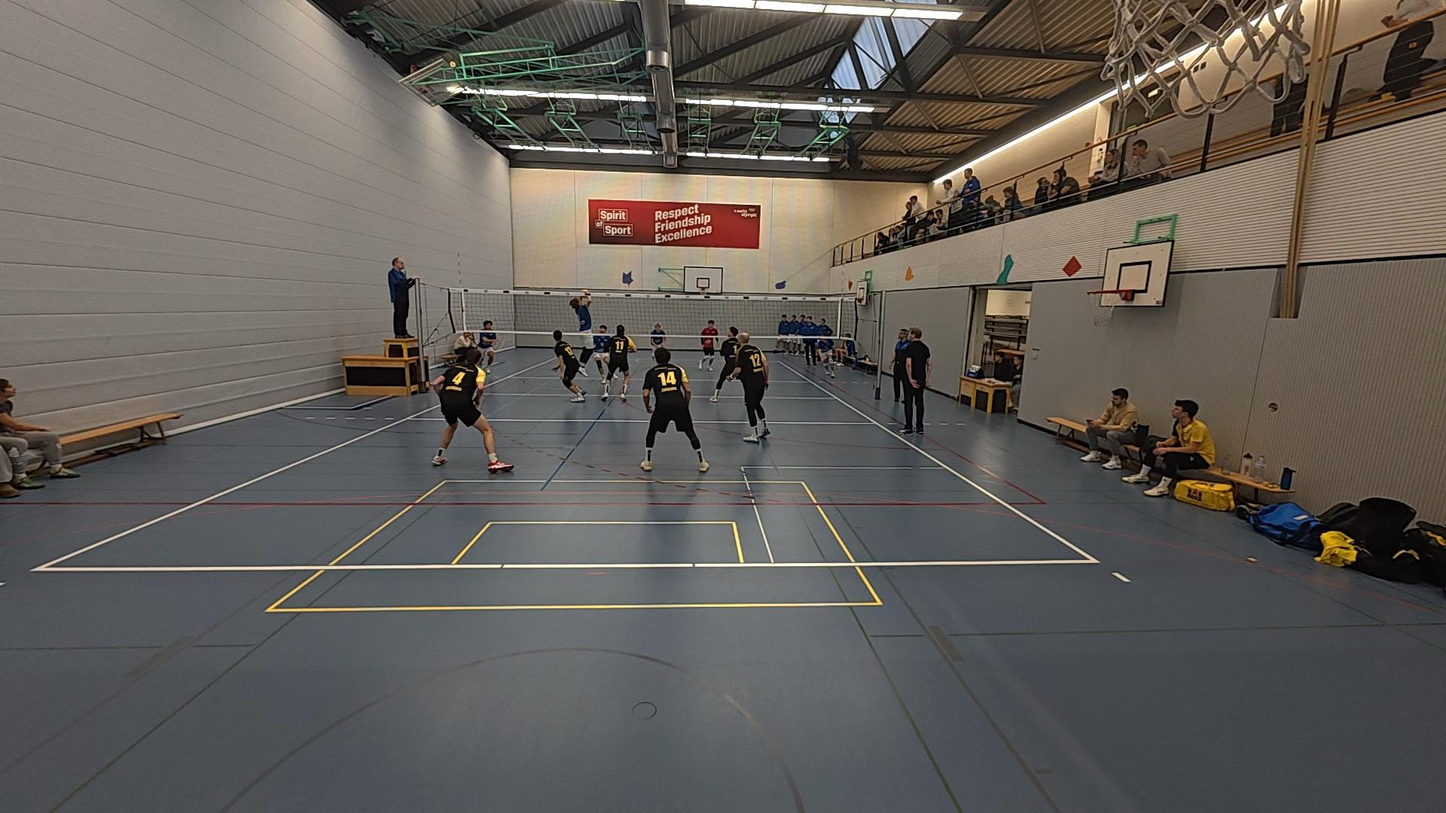Player: (431, 348, 515, 472), (641, 349, 709, 473), (732, 331, 770, 443), (601, 324, 633, 402), (554, 328, 587, 403), (712, 325, 740, 400), (471, 317, 501, 378), (586, 318, 614, 375), (697, 319, 723, 371), (648, 321, 669, 358)
Set: (574, 287, 595, 376)
ball: (901, 265, 915, 280), (578, 287, 592, 300)
